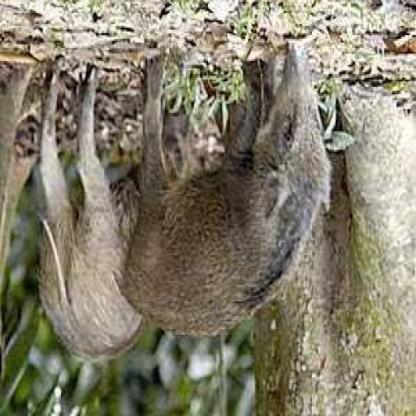boar: (118, 44, 374, 359), (15, 71, 150, 380)
